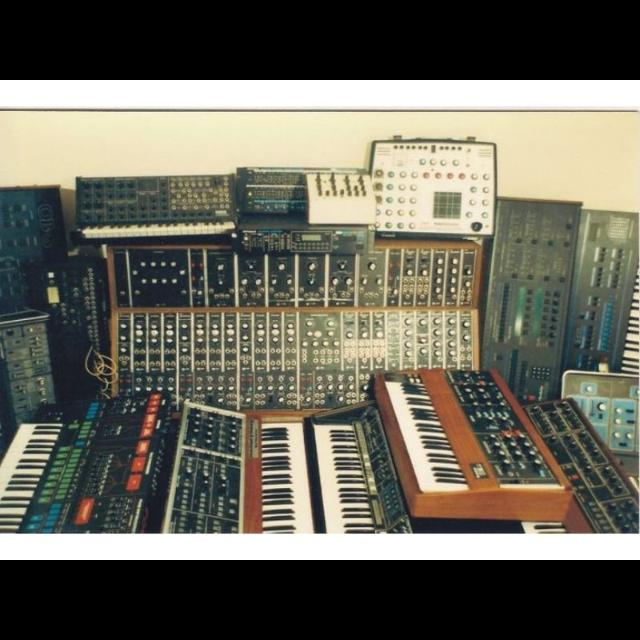Electronic-Keyboard: (373, 362, 577, 518), (6, 398, 162, 522), (181, 387, 297, 525), (72, 166, 242, 238), (315, 391, 361, 523)
